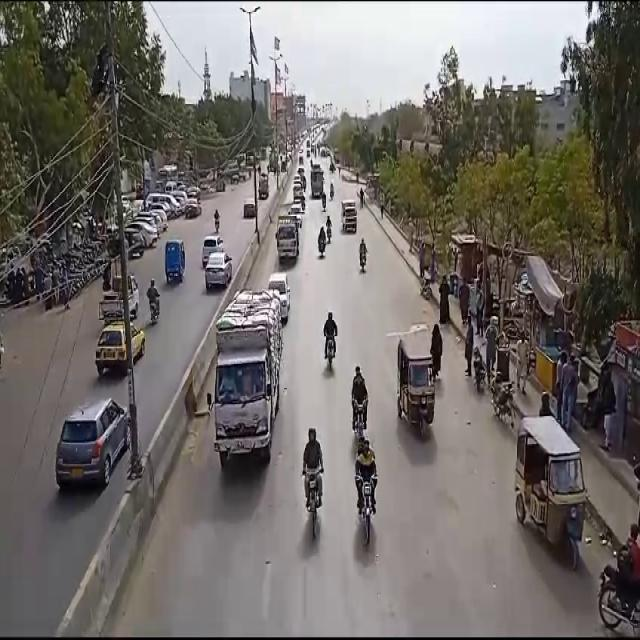car: (54, 400, 132, 490), (96, 324, 138, 380), (204, 253, 234, 292), (124, 220, 158, 252), (242, 201, 256, 219)
motorbike: (298, 422, 328, 536), (355, 437, 381, 542), (322, 302, 339, 382), (146, 274, 162, 329)
truck: (211, 281, 283, 472)
